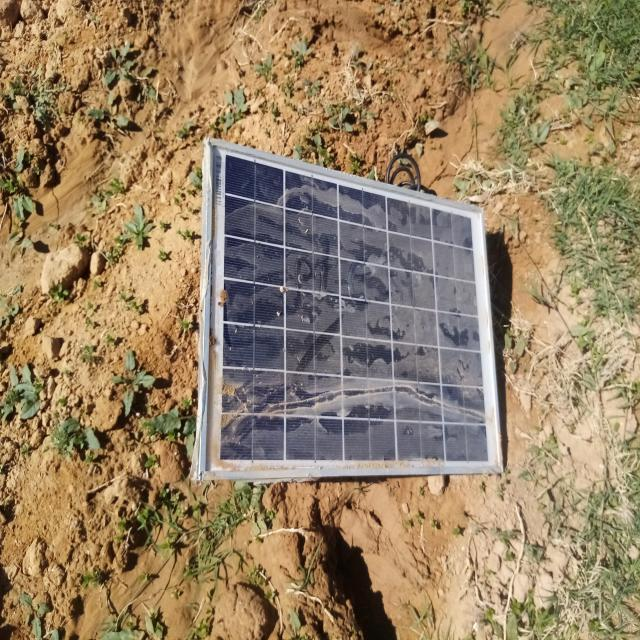Anomaly Solar Panel: (202, 142, 504, 472)
Surface Contaminant: (202, 142, 504, 472)
